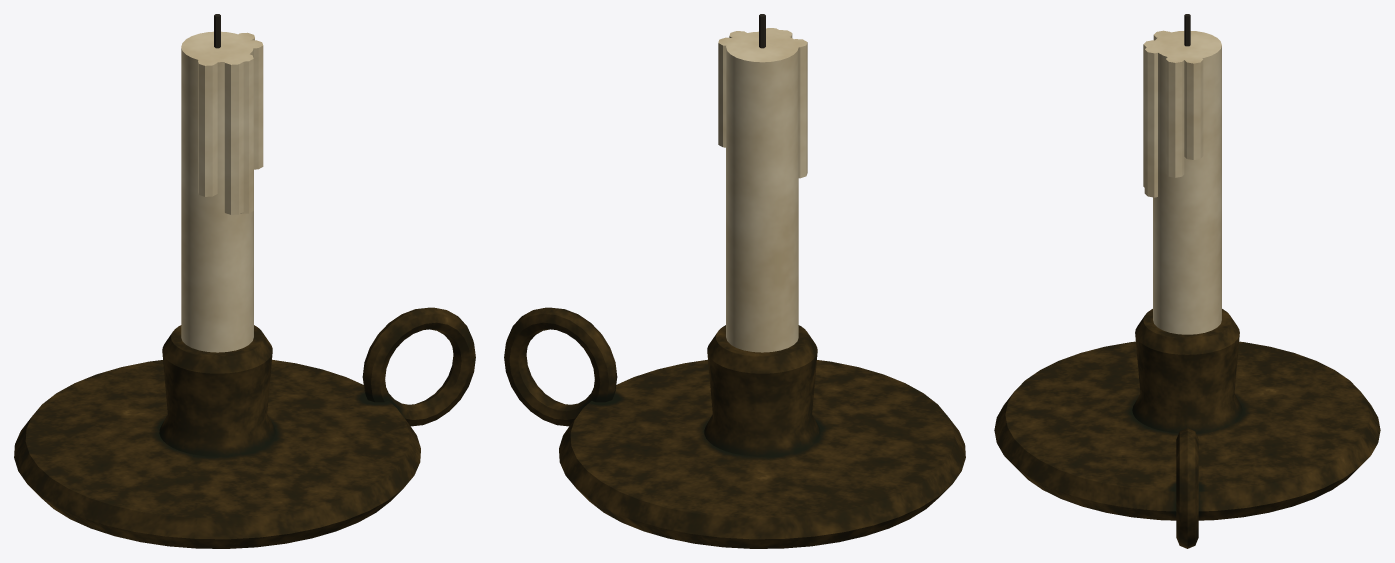
Rendered from vera_candle.glb.
The picture shows the model from 3 angles, left to right: view 1: azimuth 30°, elevation 25°; view 2: azimuth 150°, elevation 25°; view 3: azimuth 270°, elevation 25°; orthographic projection. The views are drawn at different scales.
Visible parts, largest first — view 1: Holder, Wax; view 2: Holder, Wax; view 3: Holder, Wax.
Boxes of the visible parts, box(x1,y1,x2,y2) form: Holder: box(14, 307, 475, 548); Wax: box(181, 31, 263, 352); Holder: box(504, 307, 965, 548); Wax: box(718, 28, 807, 352); Holder: box(994, 309, 1380, 548); Wax: box(1143, 30, 1221, 334).
Size of the model in its own units: 0.172 by 0.174 by 0.14.
3 materials, 2 textured.
